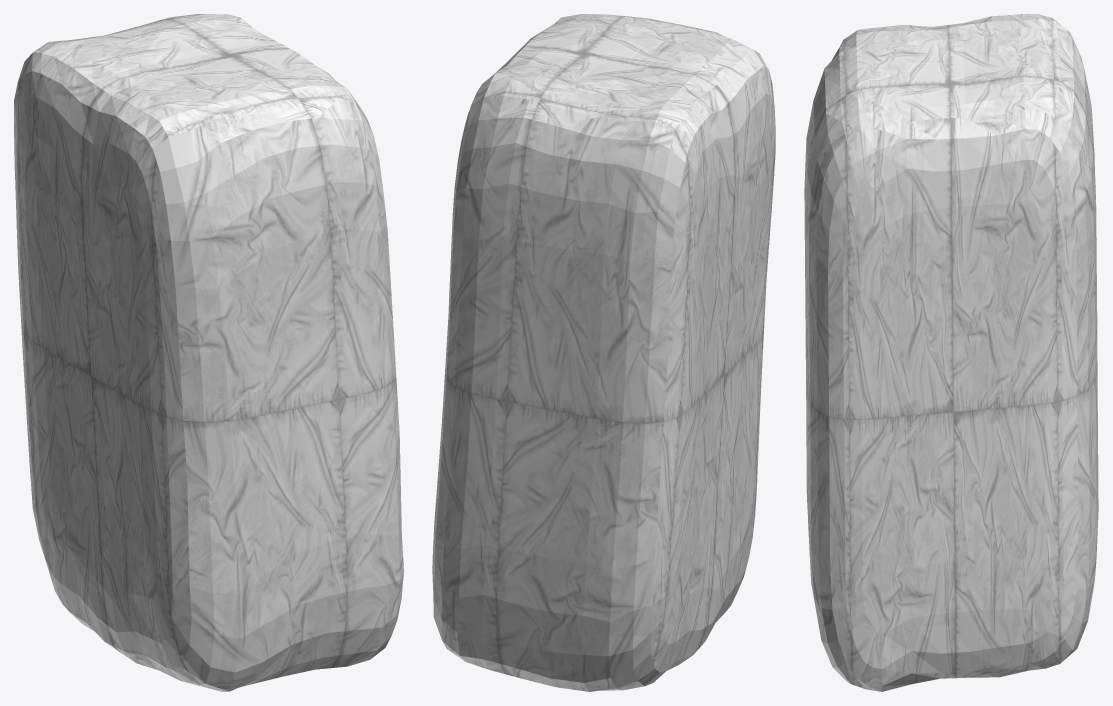
The model's file is ISS_INT_props_Bag_white_large.FBX.
3 renders of one model, left to right at view 1: azimuth 30°, elevation 25°; view 2: azimuth 150°, elevation 25°; view 3: azimuth 270°, elevation 25°, orthographic. The views are drawn at different scales.
Parts seen in each view (by area): view 1: Columbus_int; view 2: Columbus_int; view 3: Columbus_int.
Boxes of the visible parts, bbox=[...] form: Columbus_int: bbox=[14, 14, 403, 691]; Columbus_int: bbox=[432, 14, 775, 691]; Columbus_int: bbox=[804, 14, 1098, 691].
Bounding box in the file's own units: 0.0503 × 0.1045 × 0.0486.
